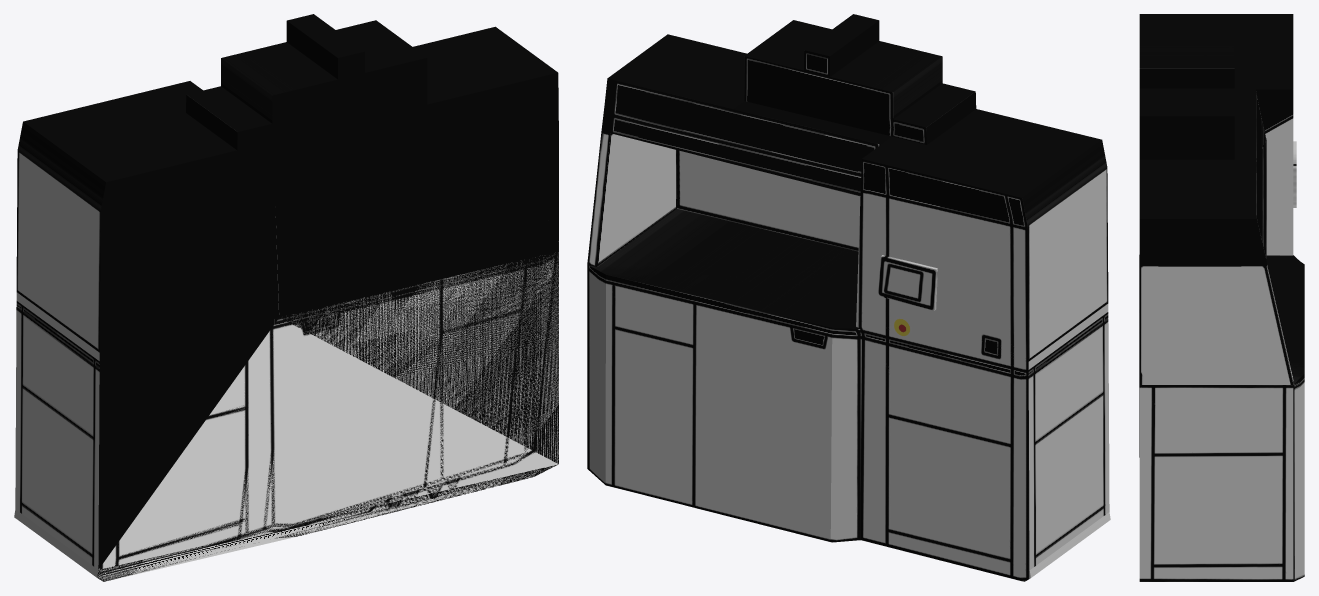
The model's file is processingStation.fbx.
3 renders of one model, left to right at view 1: azimuth 30°, elevation 25°; view 2: azimuth 150°, elevation 25°; view 3: azimuth 270°, elevation 25°, orthographic. The views are drawn at different scales.
Parts seen in each view (by area): view 1: ProcessingStation; view 2: ProcessingStation, ProcessingStationDoor; view 3: ProcessingStation.
Boxes of the visible parts, bbox=[...] form: ProcessingStation: bbox=[14, 14, 558, 581]; ProcessingStation: bbox=[587, 14, 1110, 581]; ProcessingStationDoor: bbox=[695, 295, 860, 541]; ProcessingStation: bbox=[1139, 14, 1304, 581].
Size of the model in its own units: 299 by 290 by 100.
